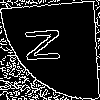N: (25, 25, 69, 65)
